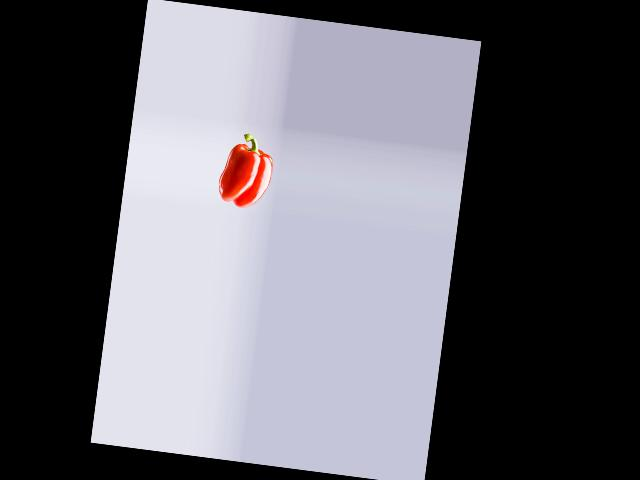bell_pepper: (215, 130, 279, 209)
